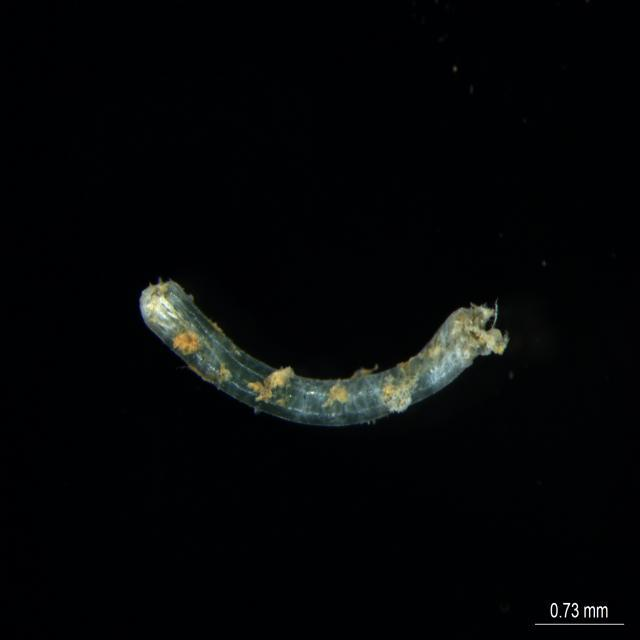fibers: (131, 279, 511, 439)
